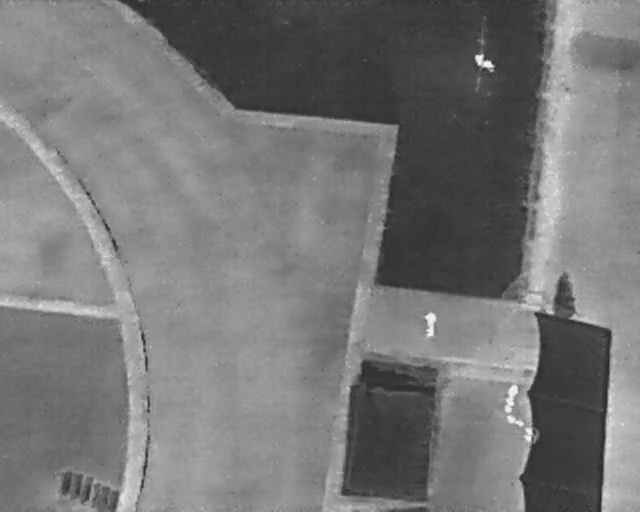Person: (499, 380, 522, 414), (471, 49, 499, 74), (423, 309, 438, 338)
